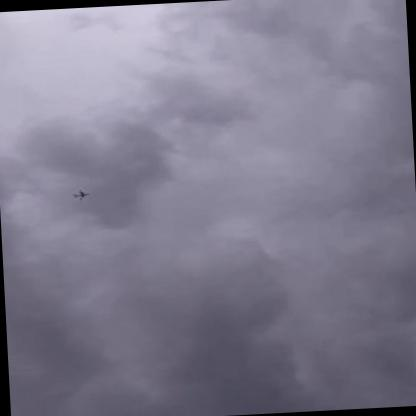plane: (73, 188, 90, 199)
